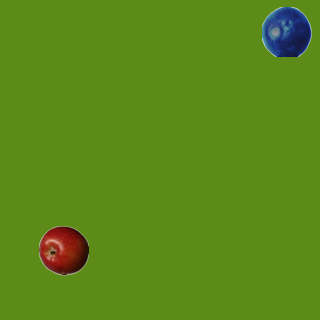Apple Braeburn: (38, 225, 88, 275)
Huckleberry: (261, 6, 311, 56)
